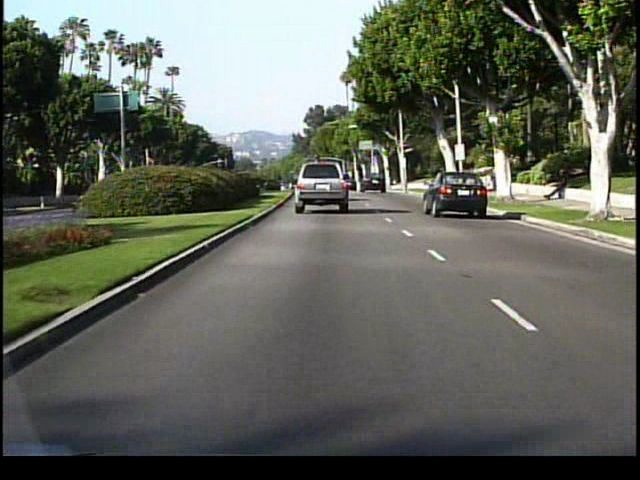person: (548, 164, 573, 205)
